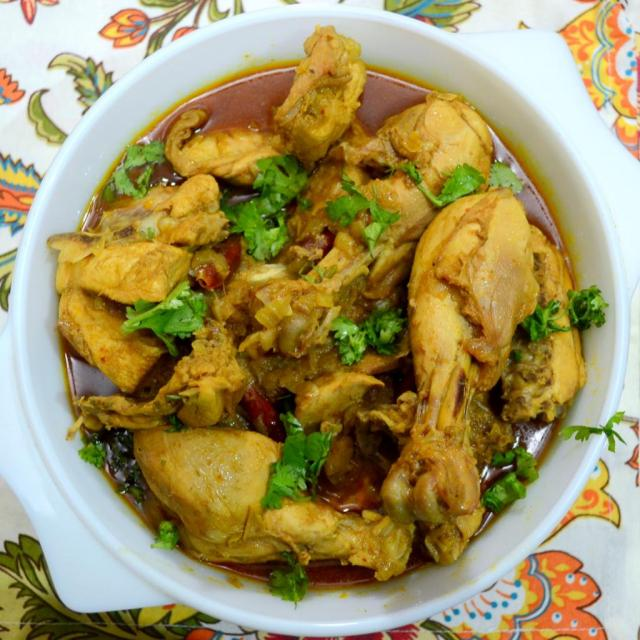chicken: (64, 54, 570, 569)
